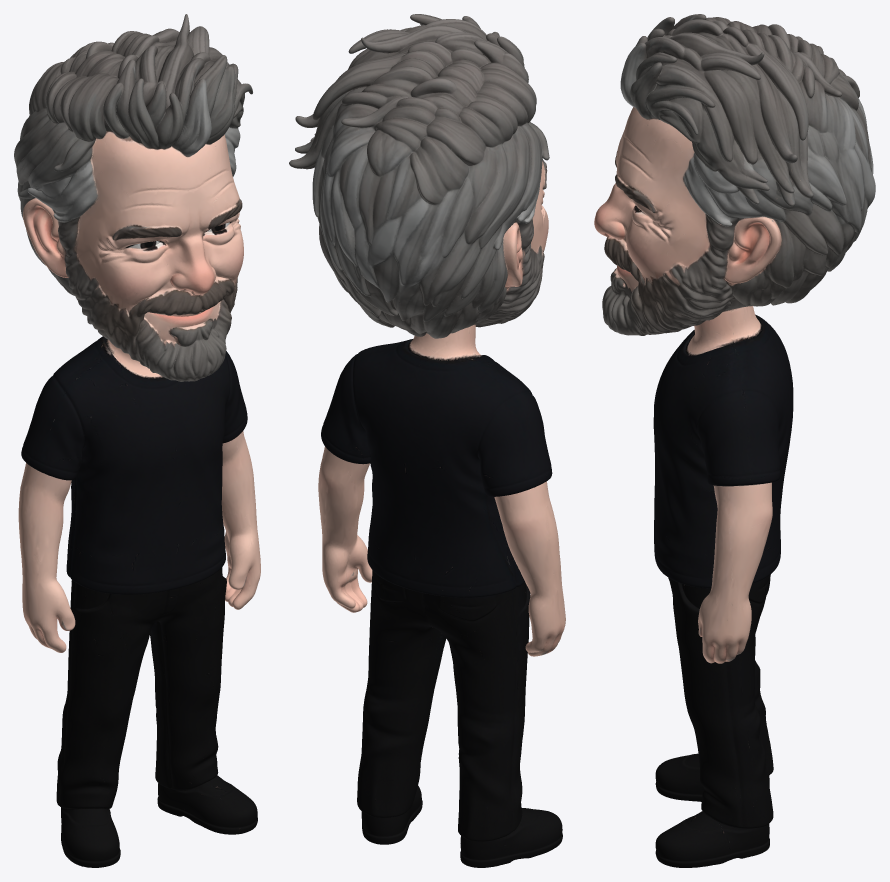
Rendered from chibi-figure-compressed.glb.
3 renders of one model, left to right at view 1: azimuth 30°, elevation 25°; view 2: azimuth 150°, elevation 25°; view 3: azimuth 270°, elevation 25°, orthographic. The views are drawn at different scales.
Parts seen in each view (by area): view 1: Mesh_0.001; view 2: Mesh_0.001; view 3: Mesh_0.001.
Boxes of the visible parts, <box> form: Mesh_0.001: <box>14,14,260,867</box>; Mesh_0.001: <box>289,14,565,867</box>; Mesh_0.001: <box>594,14,875,867</box>.
Size of the model in its own units: 0.0614 by 0.2 by 0.0635.
1 material, 1 textured.
